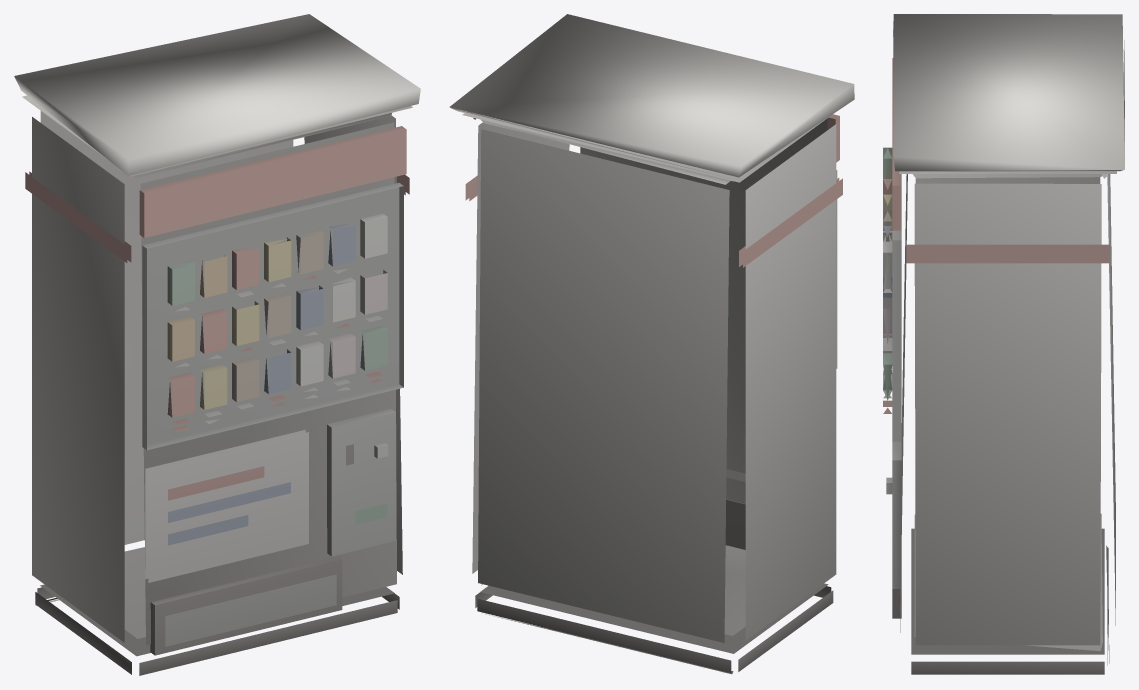
The model's file is vending.lod.glb.
The picture shows the model from 3 angles, left to right: view 1: azimuth 30°, elevation 25°; view 2: azimuth 150°, elevation 25°; view 3: azimuth 270°, elevation 25°; orthographic projection.
Visible parts, largest first — view 1: vending.001; view 2: vending.001; view 3: vending.001.
Part boxes in pixels (x1,y1,x2,y2): vending.001: (14,14,420,675); vending.001: (449,14,854,674); vending.001: (883,14,1124,674).
Size of the model in its own units: 1.11 by 1.89 by 0.7836.
